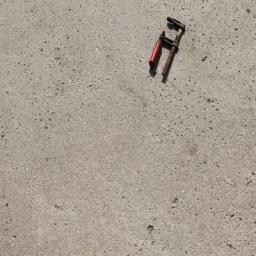FOD: (148, 14, 188, 88)
